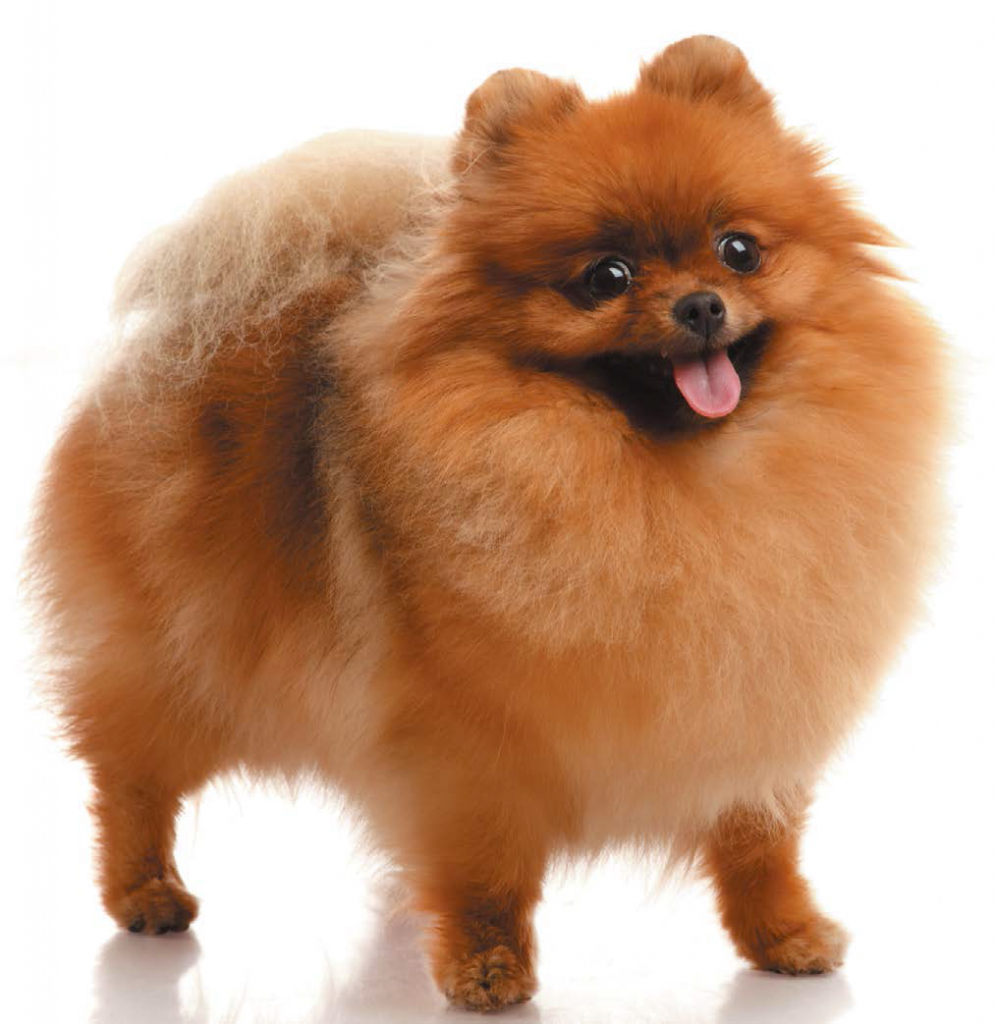dog: (15, 31, 960, 1017)
pomeranian: (13, 29, 958, 1015)
